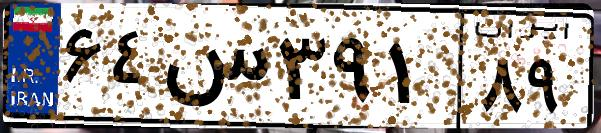1: (385, 28, 445, 110)
3: (270, 28, 330, 110)
4: (110, 28, 158, 98)
6: (57, 26, 110, 100)
8: (475, 38, 525, 113)
9: (330, 28, 385, 110), (525, 38, 570, 115)
س: (158, 20, 270, 120)
